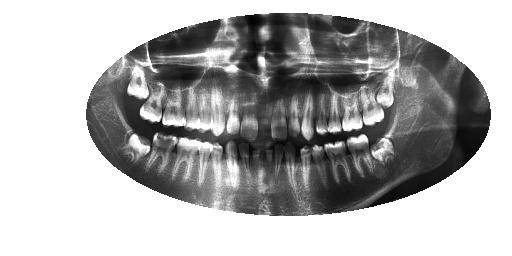Fillings: (346, 134, 379, 180), (359, 78, 386, 128), (175, 134, 200, 185), (161, 87, 188, 129), (193, 85, 214, 136), (342, 87, 364, 132), (140, 82, 163, 123), (182, 80, 198, 133)
Impacted Tooth: (123, 132, 151, 164), (127, 65, 150, 99), (370, 137, 397, 165), (376, 70, 395, 108)
